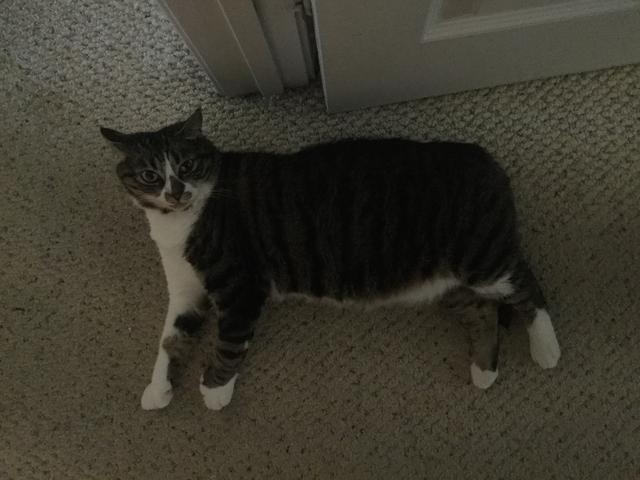playdoh: (97, 106, 563, 414)
